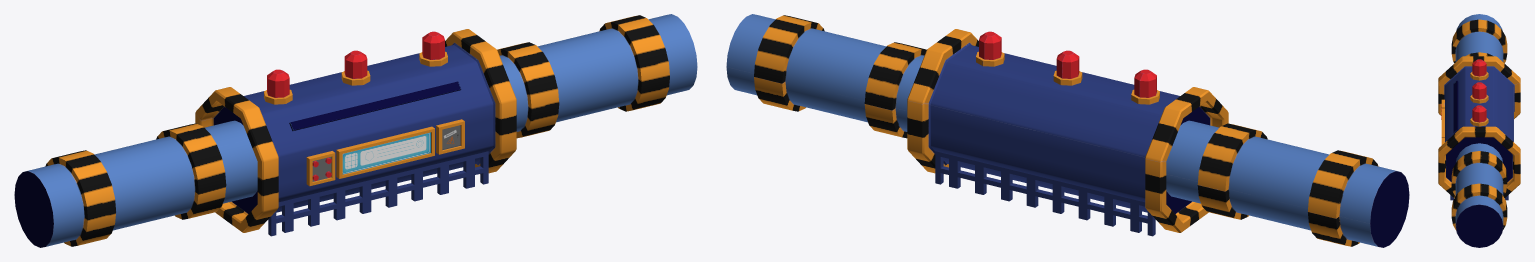
Rendered from Power Room.dae.
The picture shows the model from 3 angles, left to right: view 1: azimuth 30°, elevation 25°; view 2: azimuth 150°, elevation 25°; view 3: azimuth 270°, elevation 25°; orthographic projection. The views are drawn at different scales.
Parts seen in each view (by area): view 1: Main Component, Misc Component, Light Completion; view 2: Main Component, Light Completion, Misc Component; view 3: Main Component, Misc Component, Light Completion.
Part boxes in pixels (x1=…): Main Component: x1=14, y1=14, x2=697, y2=247; Misc Component: x1=264, y1=51, x2=464, y2=186; Light Completion: x1=267, y1=31, x2=444, y2=97; Main Component: x1=726, y1=14, x2=1409, y2=247; Light Completion: x1=979, y1=31, x2=1156, y2=97; Misc Component: x1=976, y1=51, x2=1159, y2=104; Main Component: x1=1438, y1=14, x2=1520, y2=247; Misc Component: x1=1441, y1=72, x2=1488, y2=144; Light Completion: x1=1472, y1=59, x2=1486, y2=122.
Size of the model in its own units: 49.71 by 9.09 by 10.31.
2 materials, 2 textured.
